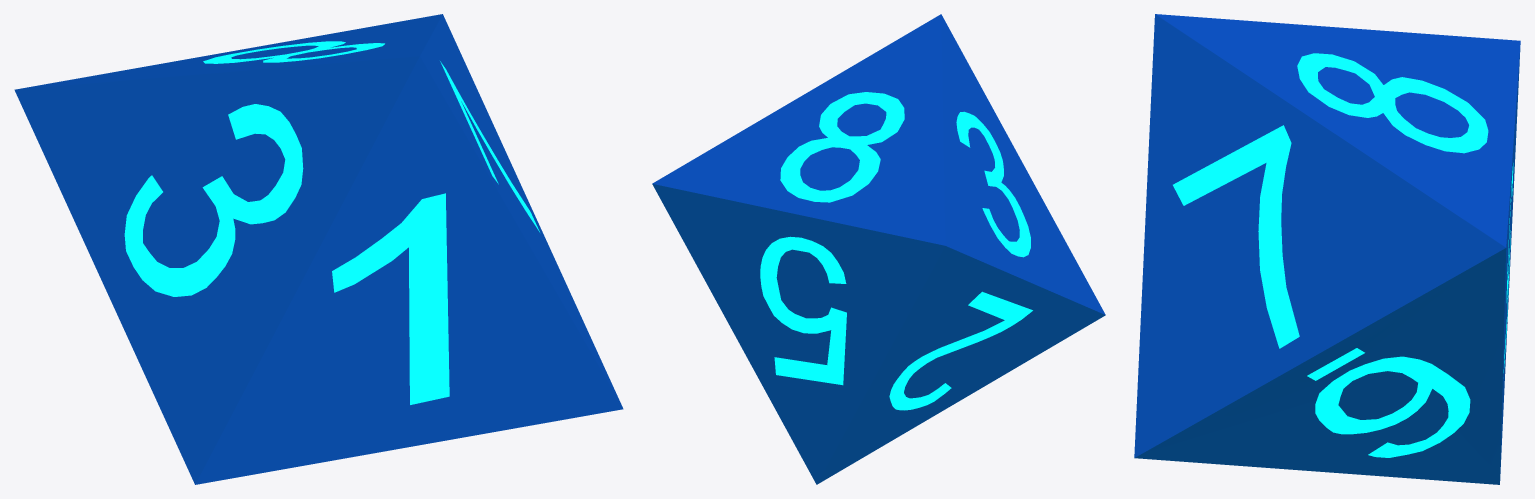
File: dice8.glb
The picture shows the model from 3 angles, left to right: view 1: azimuth 30°, elevation 25°; view 2: azimuth 150°, elevation 25°; view 3: azimuth 270°, elevation 25°; orthographic projection. The views are drawn at different scales.
Visible parts, largest first — view 1: d8; view 2: d8; view 3: d8.
Boxes of the visible parts, <box> form: d8: <box>14,14,623,484</box>; d8: <box>652,14,1105,484</box>; d8: <box>1134,14,1520,484</box>.
Size of the model in its own units: 0.0234 by 0.0264 by 0.0194.
